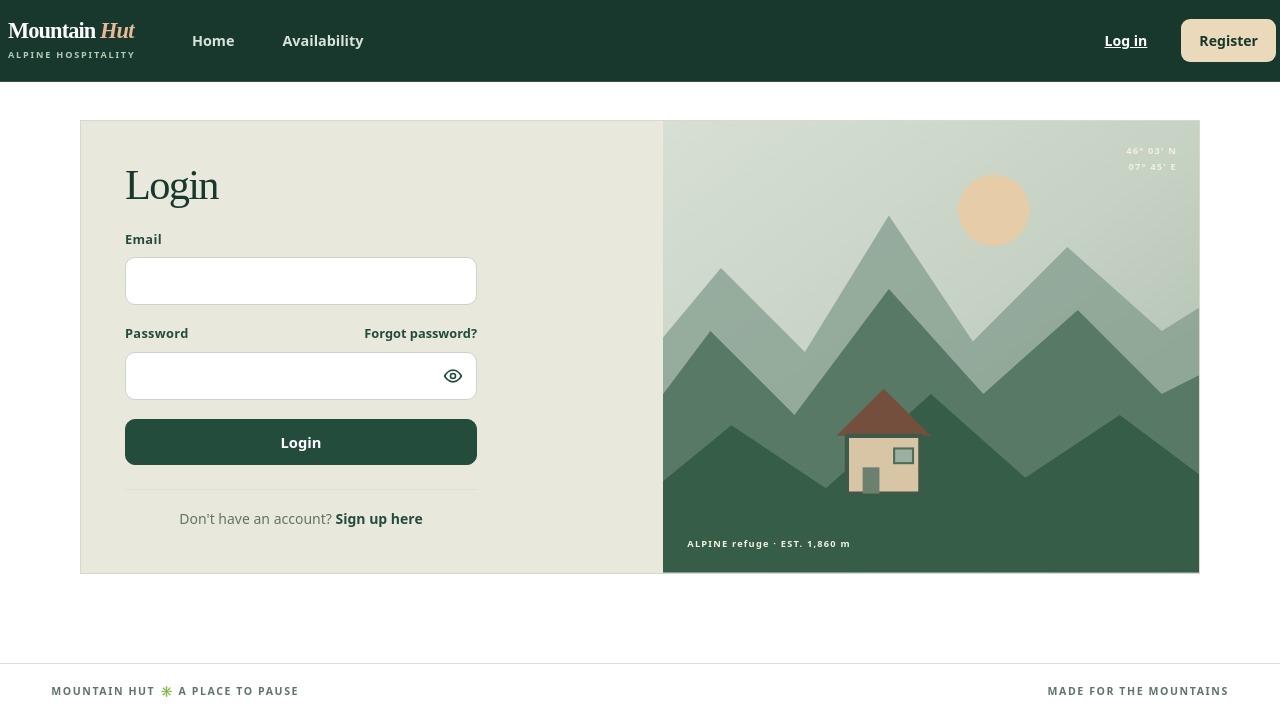
forgot password › login page links to forgot password
Click the link "Forgot password?" at coordinates (421, 334), box [364,324,477,344]
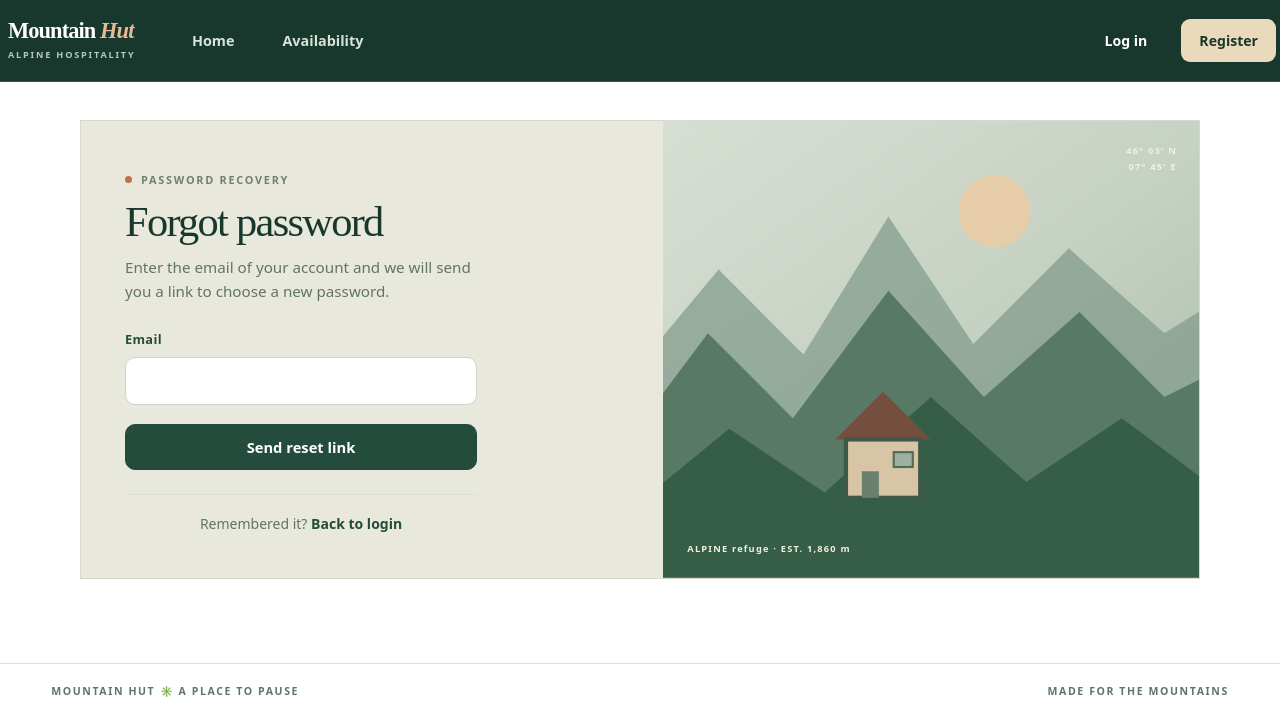
Now the heading "Forgot password" is shown, box [125,198,383,245]
